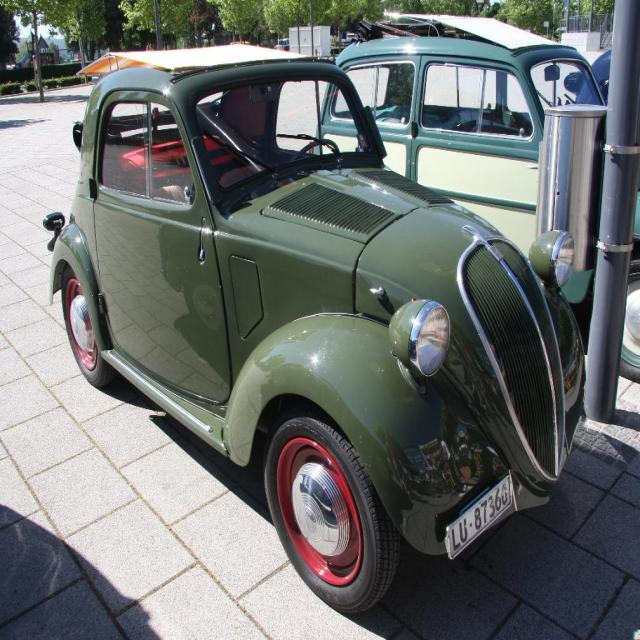car: (52, 17, 581, 616)
